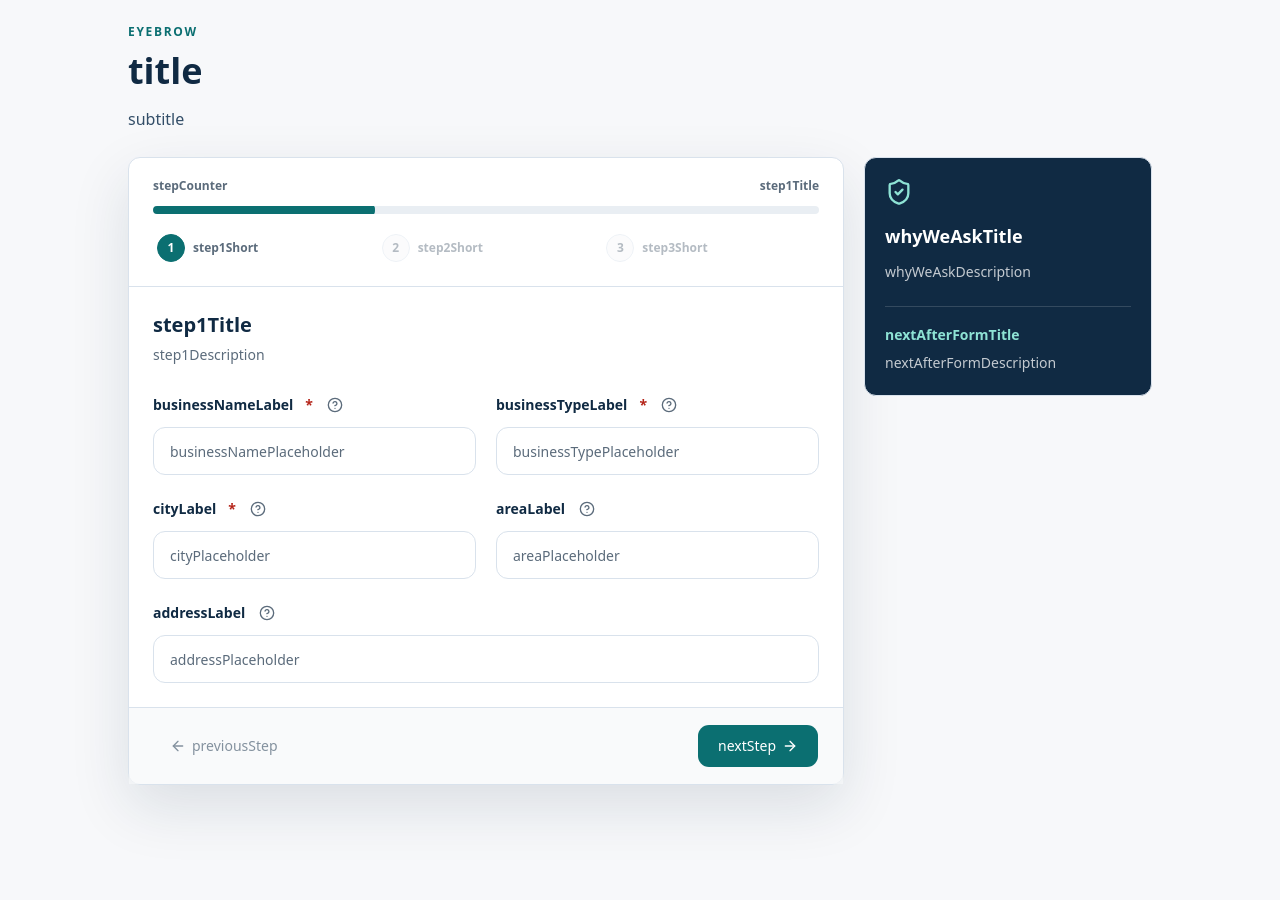
Test: IntakeForm › shows field guidance with an example
Click the heading named "fieldHelpLabel: businessNameLabel" at [335, 405], box [327,397,343,413]
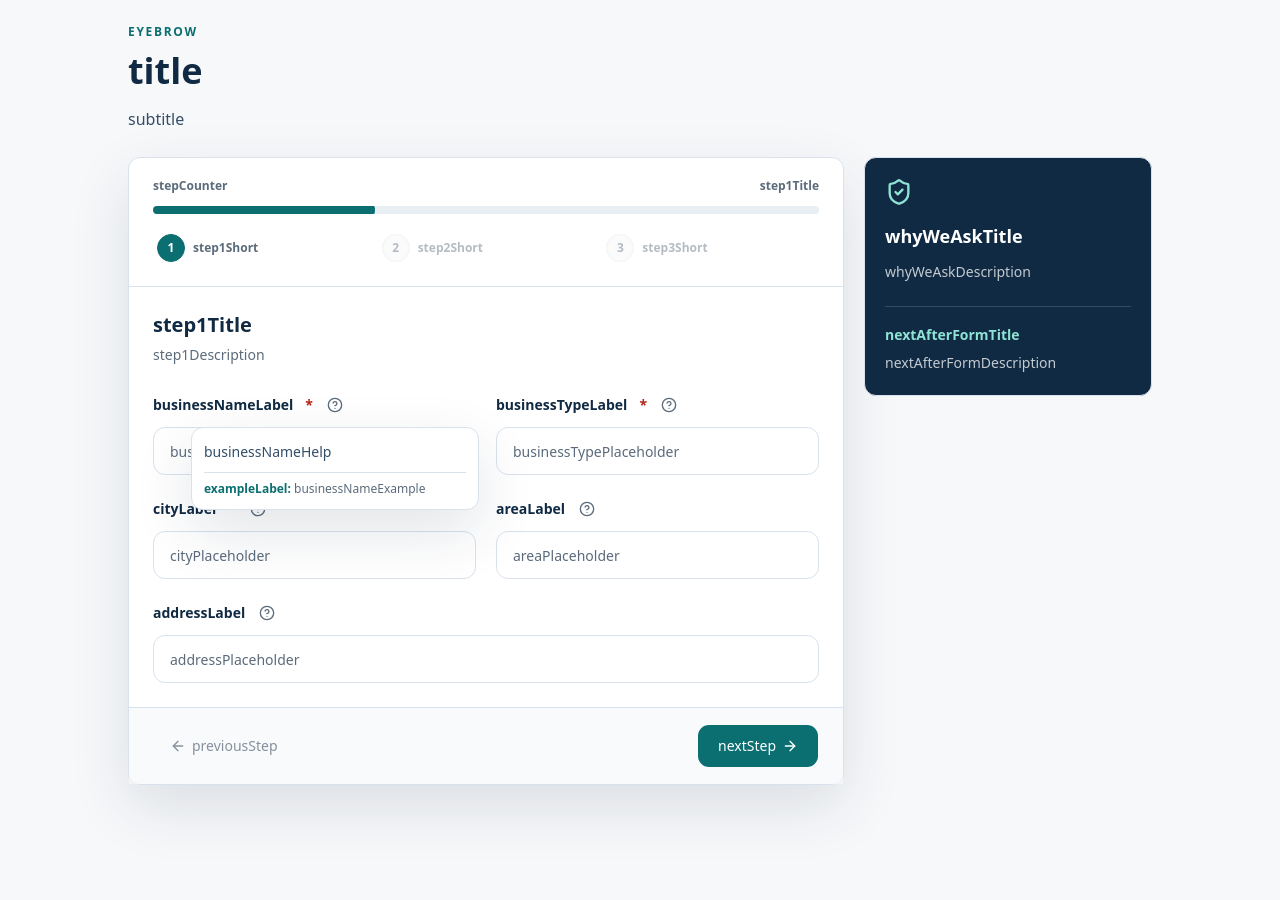
Check: the text "businessNameHelp" is shown, box [204,442,332,461]
Check: the text "exampleLabel: businessNameExample" is shown, box [204,472,466,497]
